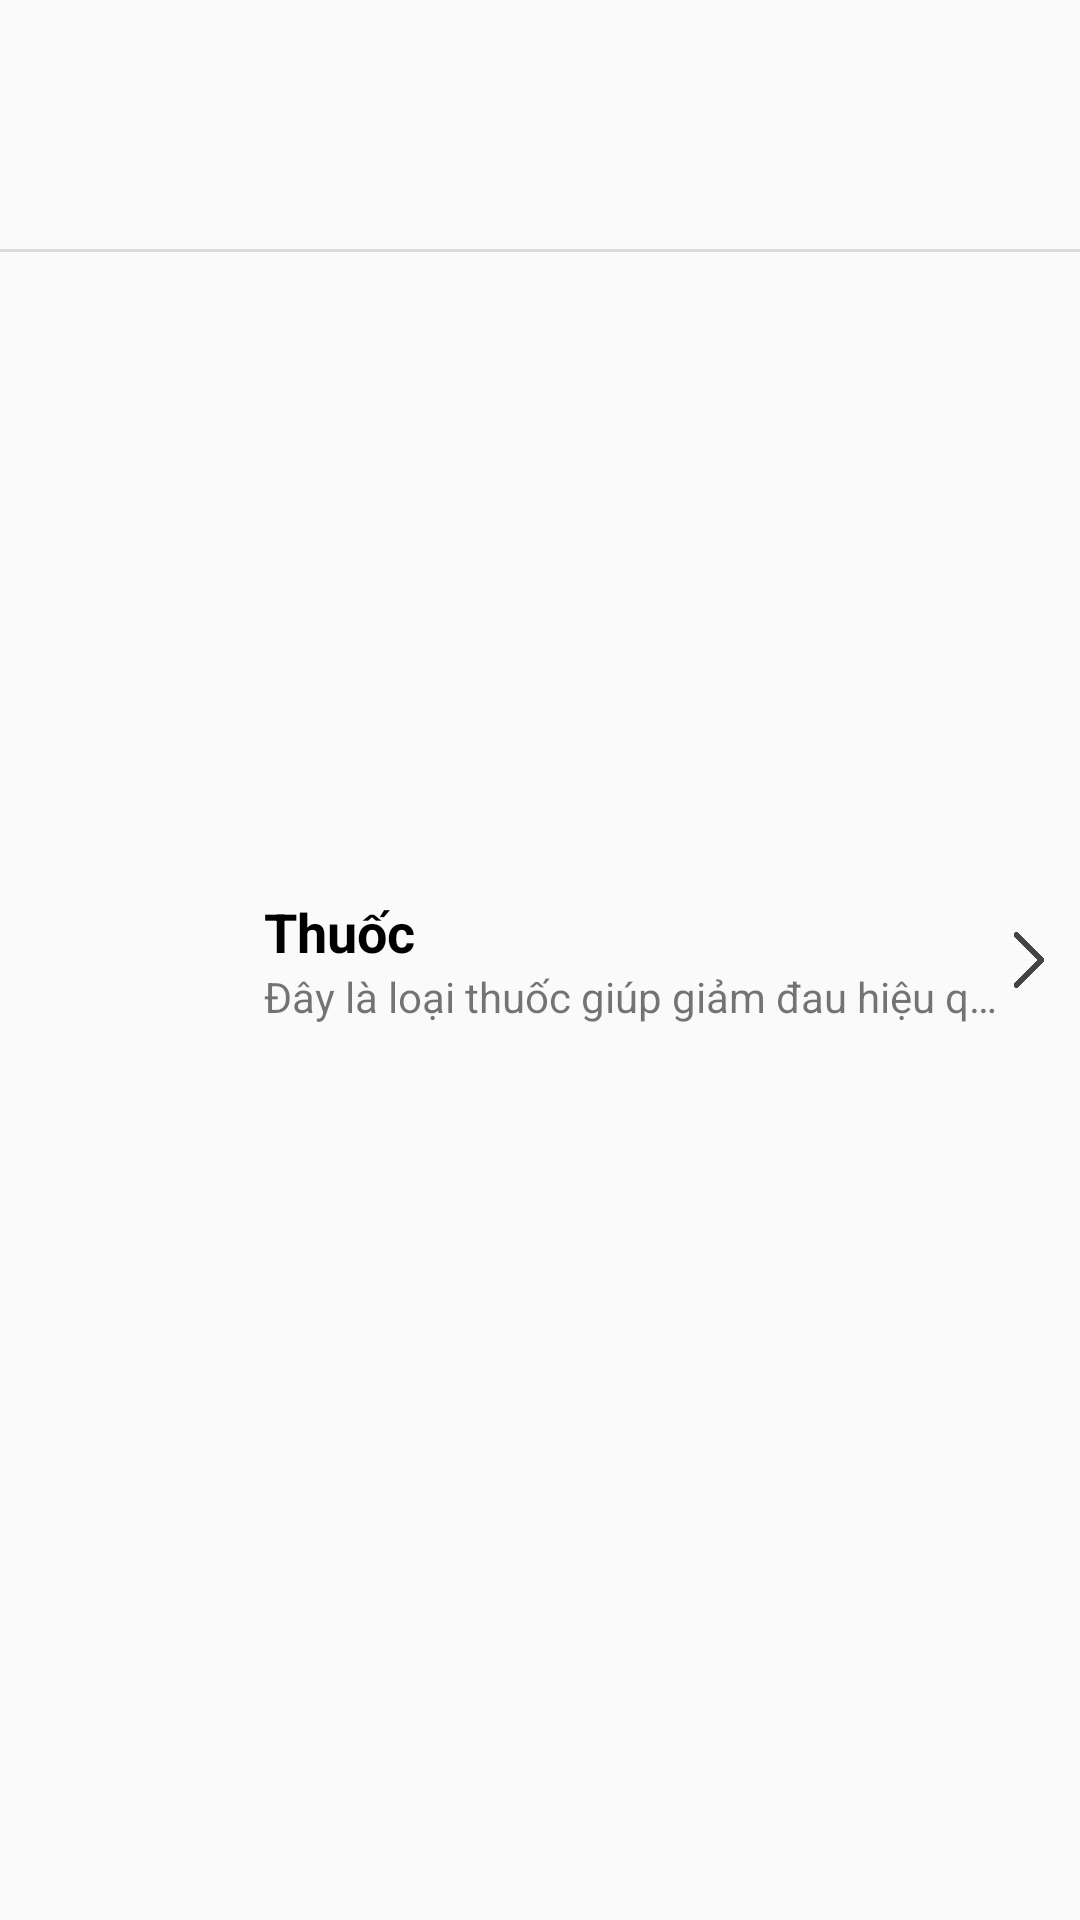

Icons on this 1080px×1920px Android screen, each with its box as Rect(x1, y1, x2, y2):
right: Rect(1014, 932, 1044, 988)
